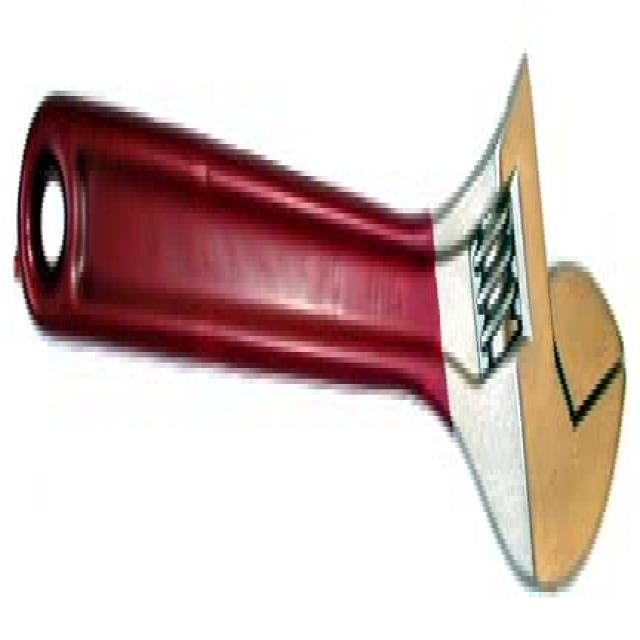Wrench: (15, 51, 630, 602)
